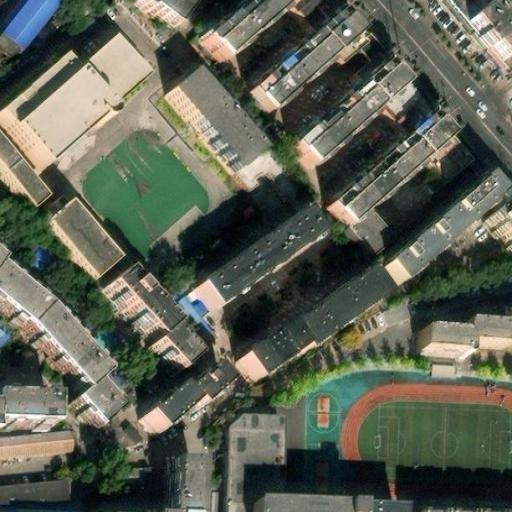building: (0, 45, 139, 174), (234, 272, 378, 386), (384, 172, 512, 288), (331, 115, 454, 227), (185, 214, 310, 319), (289, 65, 406, 172), (247, 12, 364, 118), (163, 71, 260, 176), (100, 273, 189, 379), (223, 411, 290, 512), (203, 0, 302, 67), (42, 199, 121, 282), (141, 372, 224, 438), (414, 314, 512, 351), (1, 0, 62, 50), (374, 91, 429, 145), (330, 40, 383, 92), (419, 144, 468, 191), (173, 292, 217, 344), (0, 157, 39, 215), (169, 450, 203, 512), (0, 479, 69, 509), (0, 395, 51, 426), (136, 0, 189, 29), (415, 499, 512, 512), (362, 496, 411, 512)
